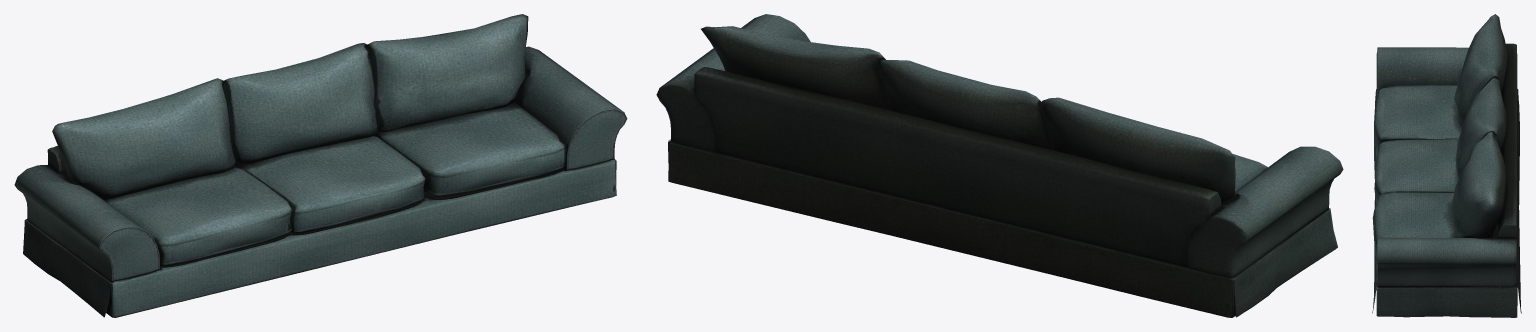
File: sofa.gltf
The picture shows the model from 3 angles, left to right: view 1: azimuth 30°, elevation 25°; view 2: azimuth 150°, elevation 25°; view 3: azimuth 270°, elevation 25°; orthographic projection. The views are drawn at different scales.
Parts seen in each view (by area): view 1: sofa; view 2: sofa; view 3: sofa.
Part boxes in pixels (<box>): sofa: <box>14,14,627,317</box>; sofa: <box>656,14,1343,317</box>; sofa: <box>1372,14,1521,317</box>.
Size of the model in its own units: 4.22 by 1.1 by 1.27.
Materials: 1 (1 with a texture image).
